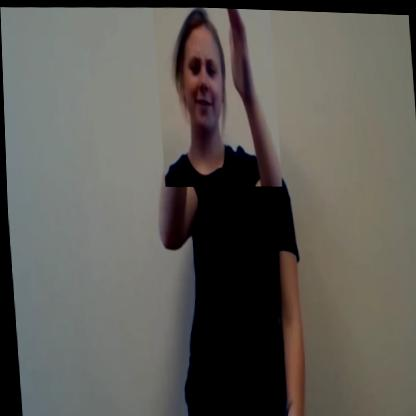Hello: (153, 4, 281, 188)
